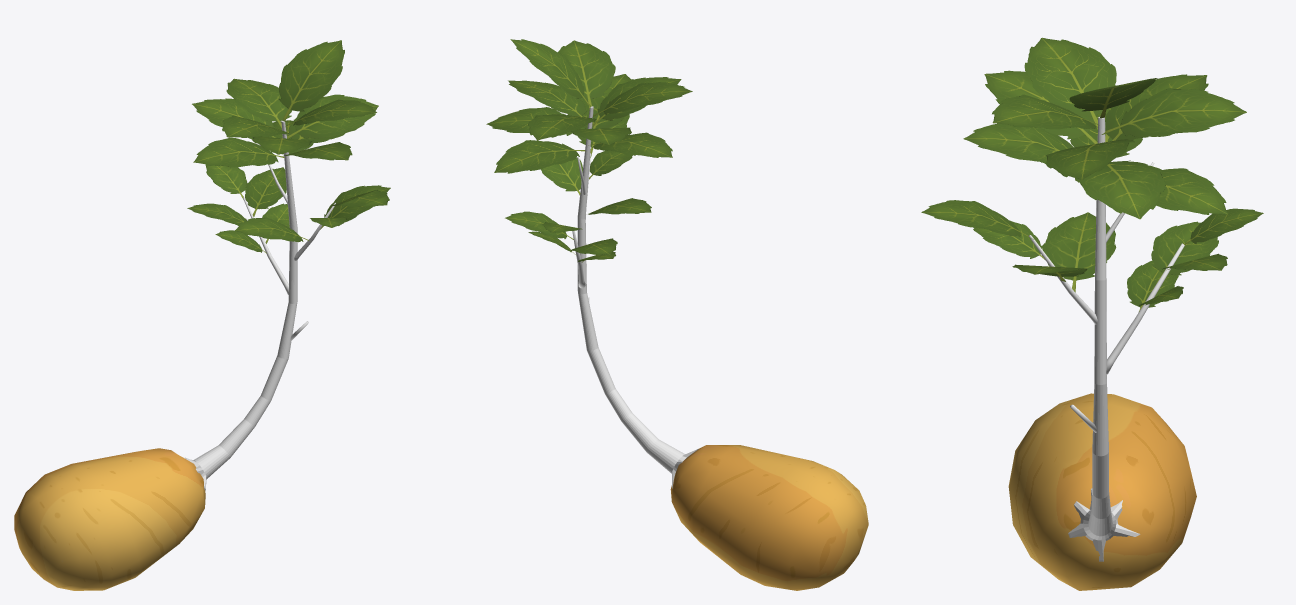
Rendered from Kentang.fbx.
3 renders of one model, left to right at view 1: azimuth 30°, elevation 25°; view 2: azimuth 150°, elevation 25°; view 3: azimuth 270°, elevation 25°, orthographic. The views are drawn at different scales.
Parts seen in each view (by area): view 1: Sphere, Cylinder, Texture_daun_kentang.013, Texture_daun_kentang.008, Texture_daun_kentang, Texture_daun_kentang.009, Texture_daun_kentang.015, Texture_daun_kentang.001, Texture_daun_kentang.005, Texture_daun_kentang.012, Texture_daun_kentang.002, Texture_daun_kentang.011 (+5 smaller); view 2: Sphere, Cylinder, Texture_daun_kentang.001, Texture_daun_kentang.006, Texture_daun_kentang.013, Texture_daun_kentang.002, Texture_daun_kentang.009, Texture_daun_kentang.008, Texture_daun_kentang, Texture_daun_kentang.003, Texture_daun_kentang.004, Texture_daun_kentang.011 (+5 smaller); view 3: Sphere, Cylinder, Texture_daun_kentang.002, Texture_daun_kentang, Texture_daun_kentang.003, Texture_daun_kentang.012, Texture_daun_kentang.007, Texture_daun_kentang.001, Texture_daun_kentang.006, Texture_daun_kentang.009, Texture_daun_kentang.014, Texture_daun_kentang.019 (+11 smaller).
Part boxes in pixels (left/top/right/bottom): Sphere: left=14, top=448, right=205, bottom=590; Cylinder: left=182, top=120, right=297, bottom=490; Texture_daun_kentang.013: left=278, top=40, right=344, bottom=121; Texture_daun_kentang.008: left=193, top=137, right=284, bottom=167; Texture_daun_kentang: left=226, top=78, right=292, bottom=128; Texture_daun_kentang.009: left=287, top=94, right=378, bottom=139; Texture_daun_kentang.015: left=245, top=167, right=286, bottom=216; Texture_daun_kentang.001: left=285, top=99, right=376, bottom=126; Texture_daun_kentang.005: left=192, top=98, right=276, bottom=139; Texture_daun_kentang.012: left=234, top=217, right=308, bottom=242; Texture_daun_kentang.002: left=222, top=115, right=288, bottom=137; Texture_daun_kentang.011: left=320, top=185, right=390, bottom=229; Sphere: left=670, top=445, right=868, bottom=590; Cylinder: left=577, top=106, right=698, bottom=488; Texture_daun_kentang.001: left=558, top=40, right=615, bottom=110; Texture_daun_kentang.006: left=494, top=140, right=585, bottom=173; Texture_daun_kentang.013: left=510, top=39, right=591, bottom=107; Texture_daun_kentang.002: left=592, top=82, right=692, bottom=117; Texture_daun_kentang.009: left=508, top=80, right=587, bottom=116; Texture_daun_kentang.008: left=588, top=132, right=672, bottom=157; Texture_daun_kentang: left=528, top=114, right=596, bottom=140; Texture_daun_kentang.003: left=486, top=107, right=572, bottom=135; Texture_daun_kentang.004: left=592, top=77, right=681, bottom=126; Texture_daun_kentang.011: left=530, top=140, right=582, bottom=195; Sphere: left=1008, top=393, right=1196, bottom=590; Cylinder: left=1068, top=117, right=1140, bottom=561; Texture_daun_kentang.002: left=1024, top=37, right=1116, bottom=130; Texture_daun_kentang: left=1101, top=88, right=1246, bottom=137; Texture_daun_kentang.003: left=1075, top=160, right=1165, bottom=219; Texture_daun_kentang.012: left=1042, top=212, right=1116, bottom=292; Texture_daun_kentang.007: left=963, top=123, right=1075, bottom=163; Texture_daun_kentang.001: left=992, top=94, right=1099, bottom=129; Texture_daun_kentang.006: left=1156, top=168, right=1227, bottom=214; Texture_daun_kentang.009: left=1045, top=139, right=1132, bottom=180; Texture_daun_kentang.014: left=1151, top=221, right=1218, bottom=283; Texture_daun_kentang.019: left=921, top=200, right=1033, bottom=239.
Size of the model in its own units: 726 by 904 by 462.
3 materials, 2 textured.
